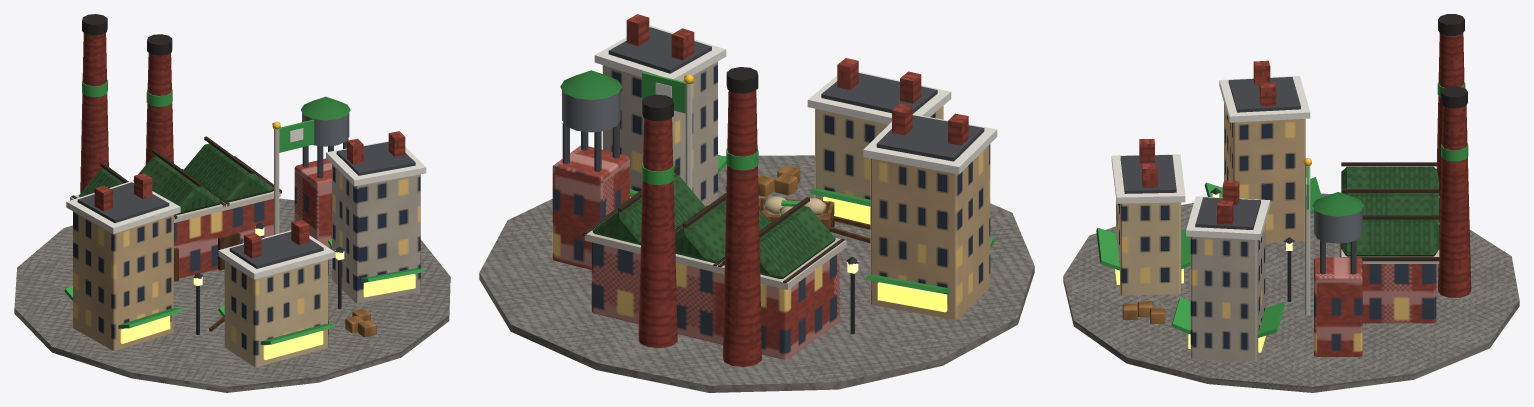
File: city_dl5_green.glb
The picture shows the model from 3 angles, left to right: view 1: azimuth 30°, elevation 25°; view 2: azimuth 150°, elevation 25°; view 3: azimuth 270°, elevation 25°; orthographic projection. The views are drawn at different scales.
Parts seen in each view (by area): view 1: city_dl5_green; view 2: city_dl5_green; view 3: city_dl5_green.
Boxes of the visible parts, left/top/right/bottom form: city_dl5_green: left=14, top=14, right=450, bottom=392; city_dl5_green: left=479, top=14, right=1034, bottom=392; city_dl5_green: left=1063, top=14, right=1519, bottom=392.
Size of the model in its own units: 1.52 by 0.88 by 1.49.
3 materials, 1 textured.
